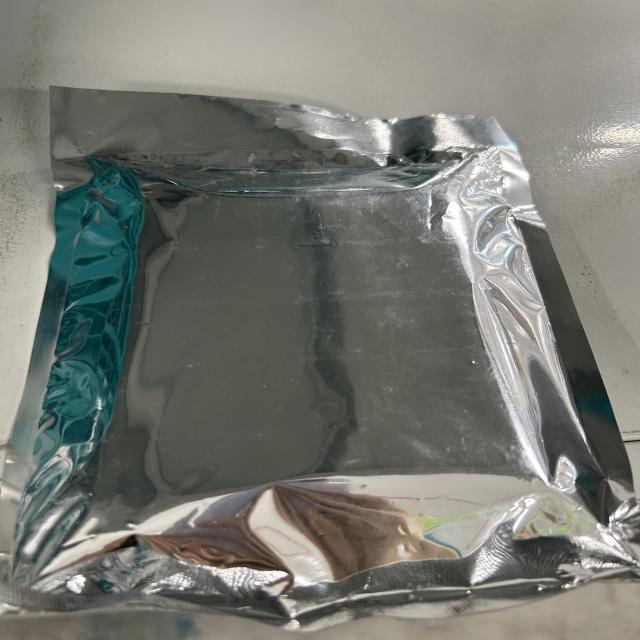object_name: (43, 88, 604, 585)
